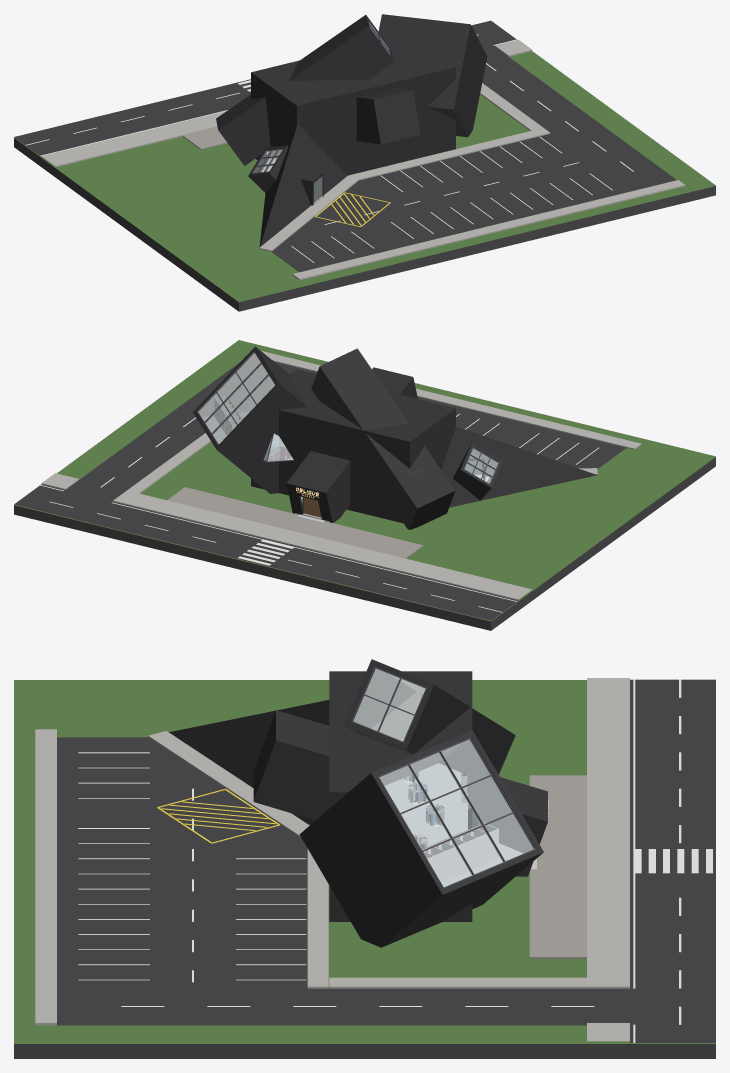
File: oblique.glb
3 views of the same model, one above another, from view 1: azimuth 30°, elevation 25°; view 2: azimuth 150°, elevation 25°; view 3: azimuth 270°, elevation 25° (orthographic). The views are drawn at different scales.
Visible parts, largest first — view 1: Bina_Duvarlar, Zemin_cim, Otopark_arka, Ana_yol_ve_tali_yol, Meydan_ve_kaldirim, Parsel_Kaide, Otopark_cizgileri, Yol_cizgileri, Depo_dis_kapi; view 2: Bina_Duvarlar, Zemin_cim, Ana_yol_ve_tali_yol, Meydan_ve_kaldirim, Parsel_Kaide, Otopark_arka, Cam_Buyuk_Egik_cam, Yol_cizgileri, Soyunma_Ust, Cam_Kucuk_Kup_cam, Doseme_1.kat_+5.50, Piramit_Eskenar_5m; view 3: Otopark_arka, Zemin_cim, Bina_Duvarlar, Ana_yol_ve_tali_yol, Meydan_ve_kaldirim, Cam_Buyuk_Egik_cam, Parsel_Kaide, Doseme_1.kat_+5.50, Otopark_cizgileri, Pencere_Egik_Uc_cam, Yol_cizgileri, Soyunma_Ust (+3 smaller).
Boxes of the visible parts, bbox=[...] form: Bina_Duvarlar: bbox=[216, 14, 487, 247]; Zemin_cim: bbox=[14, 51, 715, 302]; Otopark_arka: bbox=[272, 134, 685, 280]; Ana_yol_ve_tali_yol: bbox=[14, 20, 661, 180]; Meydan_ve_kaldirim: bbox=[41, 39, 550, 251]; Parsel_Kaide: bbox=[14, 138, 715, 311]; Otopark_cizgileri: bbox=[291, 136, 612, 262]; Yol_cizgileri: bbox=[25, 34, 633, 171]; Depo_dis_kapi: bbox=[301, 170, 323, 205]; Bina_Duvarlar: bbox=[193, 346, 597, 529]; Zemin_cim: bbox=[14, 340, 715, 621]; Ana_yol_ve_tali_yol: bbox=[14, 367, 518, 620]; Meydan_ve_kaldirim: bbox=[41, 433, 597, 600]; Parsel_Kaide: bbox=[14, 457, 715, 630]; Otopark_arka: bbox=[233, 351, 641, 468]; Cam_Buyuk_Egik_cam: bbox=[198, 353, 274, 443]; Yol_cizgileri: bbox=[40, 417, 516, 612]; Soyunma_Ust: bbox=[214, 396, 241, 435]; Cam_Kucuk_Kup_cam: bbox=[465, 448, 497, 483]; Doseme_1.kat_+5.50: bbox=[202, 411, 287, 450]; Piramit_Eskenar_5m: bbox=[264, 434, 293, 461]; Otopark_arka: bbox=[35, 729, 307, 1025]; Zemin_cim: bbox=[14, 680, 715, 1043]; Bina_Duvarlar: bbox=[169, 659, 547, 947]; Ana_yol_ve_tali_yol: bbox=[107, 679, 715, 1042]; Meydan_ve_kaldirim: bbox=[148, 678, 629, 1041]; Cam_Buyuk_Egik_cam: bbox=[379, 739, 533, 886]; Parsel_Kaide: bbox=[14, 1044, 715, 1058]; Doseme_1.kat_+5.50: bbox=[384, 738, 523, 886]; Otopark_cizgileri: bbox=[78, 752, 306, 982]; Pencere_Egik_Uc_cam: bbox=[353, 668, 425, 741]; Yol_cizgileri: bbox=[121, 679, 712, 1042]; Soyunma_Ust: bbox=[422, 823, 498, 882].
Size of the model in its own units: 60 by 17.11 by 49.
